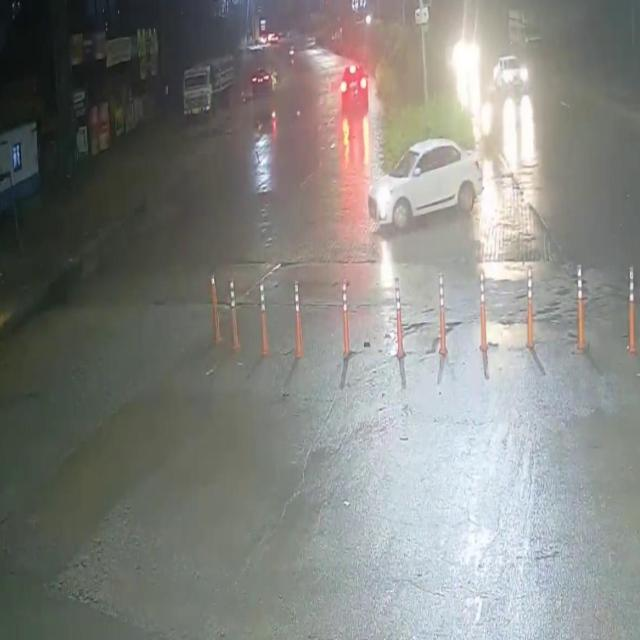accident: (248, 93, 282, 143)
